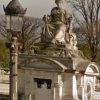Statue: (34, 0, 86, 56)
